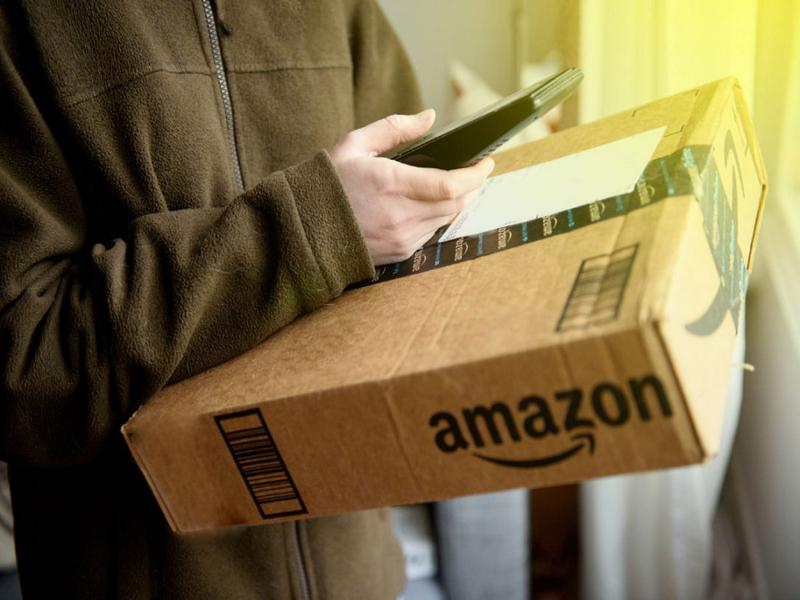package: (110, 63, 776, 544)
